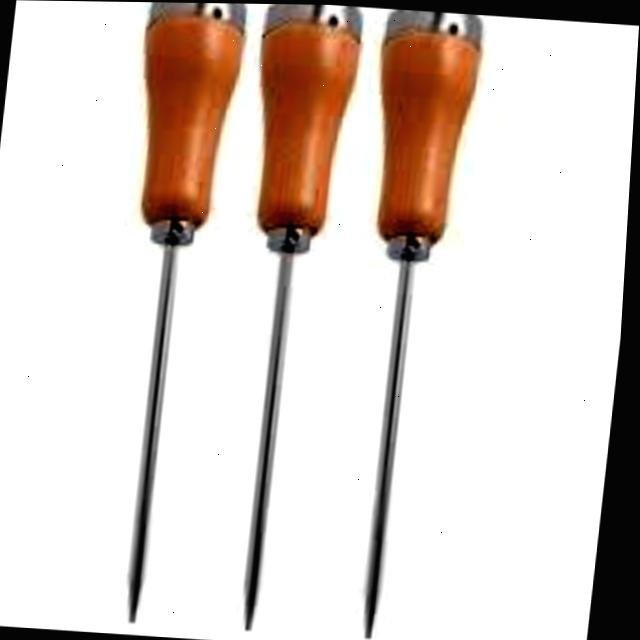ice pick: (313, 7, 520, 640), (199, 3, 383, 621), (87, 1, 259, 602)
